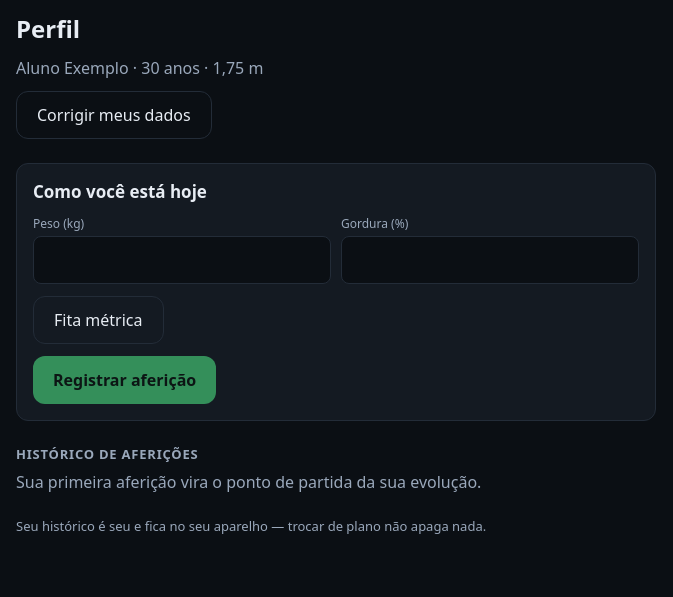
Test: TelaPerfil › a aferição de hoje › grava um ponto datado no vault
In the number field labelled "Peso (kg)": (182, 260) [33,236,331,284], type "82.4"
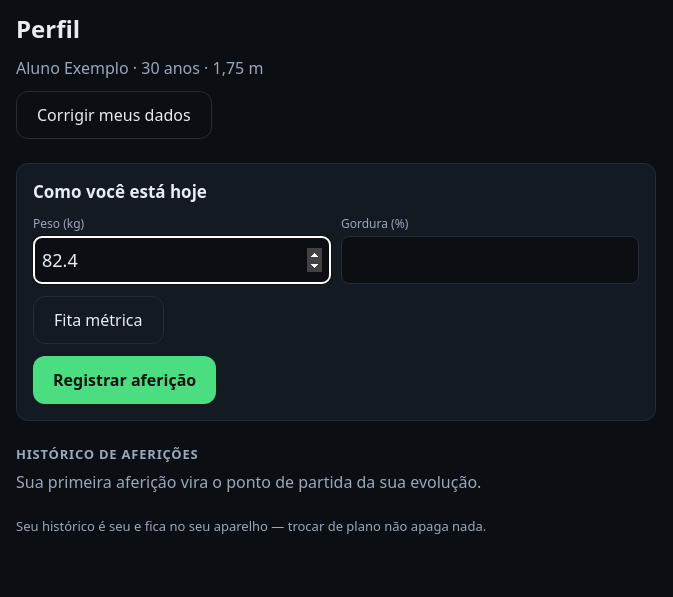
Click the button "Registrar aferição": (125, 380) [33,356,216,404]
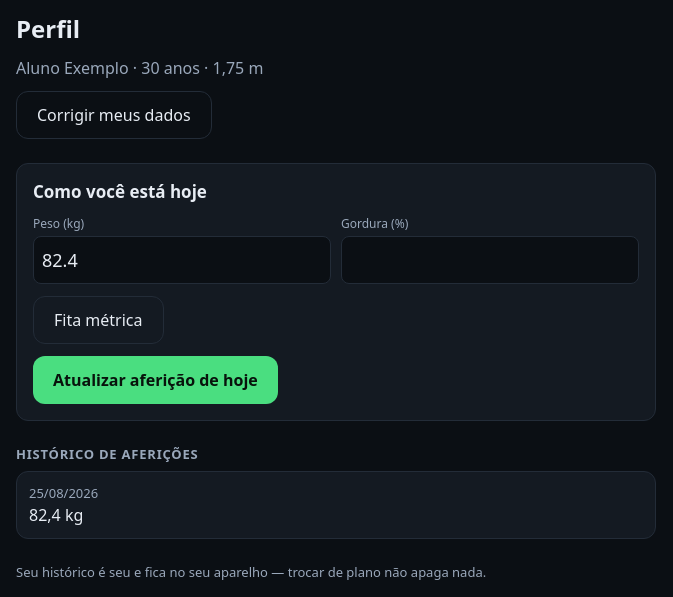
Expected: the list named "Histórico de aferições" is shown, [16,471,656,539]
